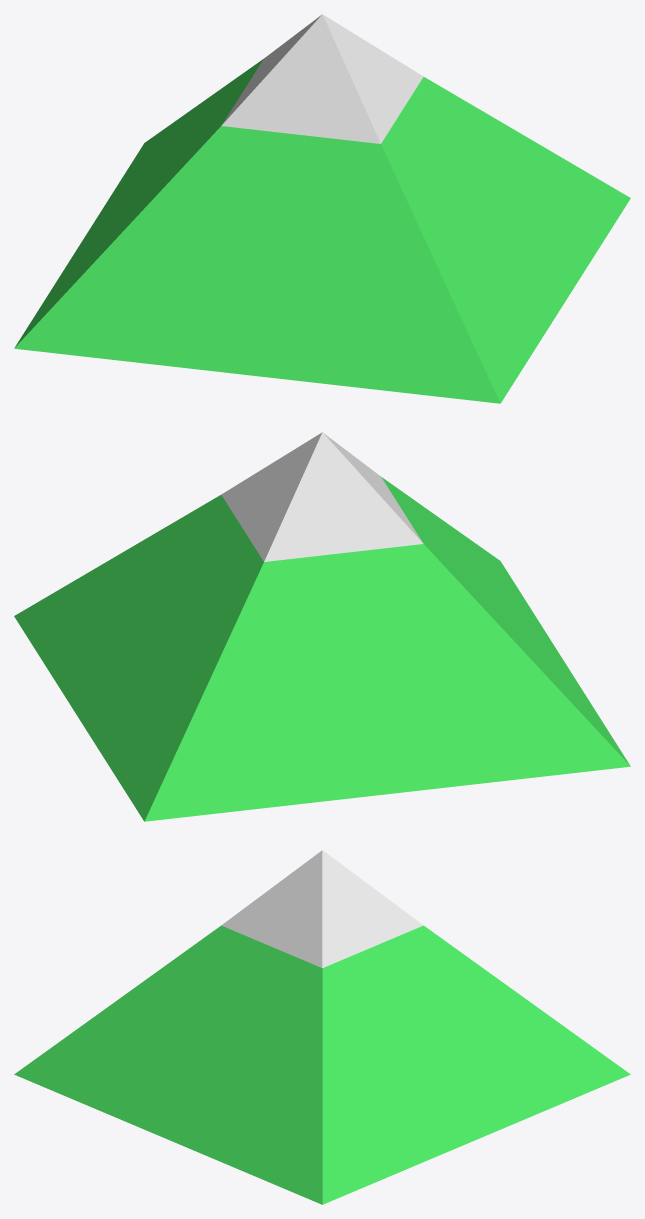
Rendered from mountain.glb.
The picture shows the model from 3 angles, top to bottom: view 1: azimuth 30°, elevation 25°; view 2: azimuth 150°, elevation 25°; view 3: azimuth 270°, elevation 25°; orthographic projection. The views are drawn at different scales.
Parts seen in each view (by area): view 1: Cone; view 2: Cone; view 3: Cone.
Part boxes in pixels (box(x1,y1,x2,y2)): Cone: box(14, 14, 630, 403); Cone: box(14, 432, 630, 821); Cone: box(14, 850, 630, 1204).
Size of the model in its own units: 3.13 by 1.26 by 3.13.
